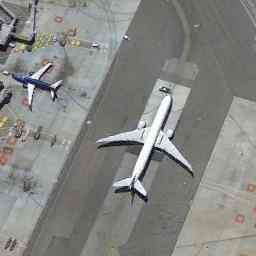Airplane: (92, 91, 208, 208), (8, 60, 74, 110)
